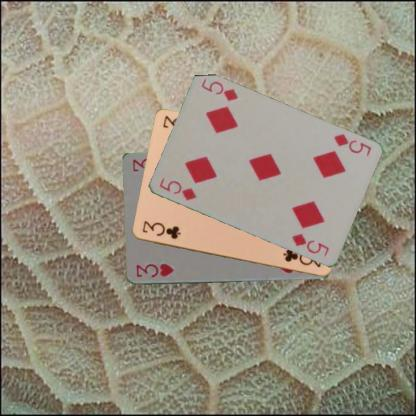3c: (139, 218, 182, 241)
3h: (134, 261, 176, 279)
5d: (156, 175, 198, 202), (331, 131, 372, 158)
